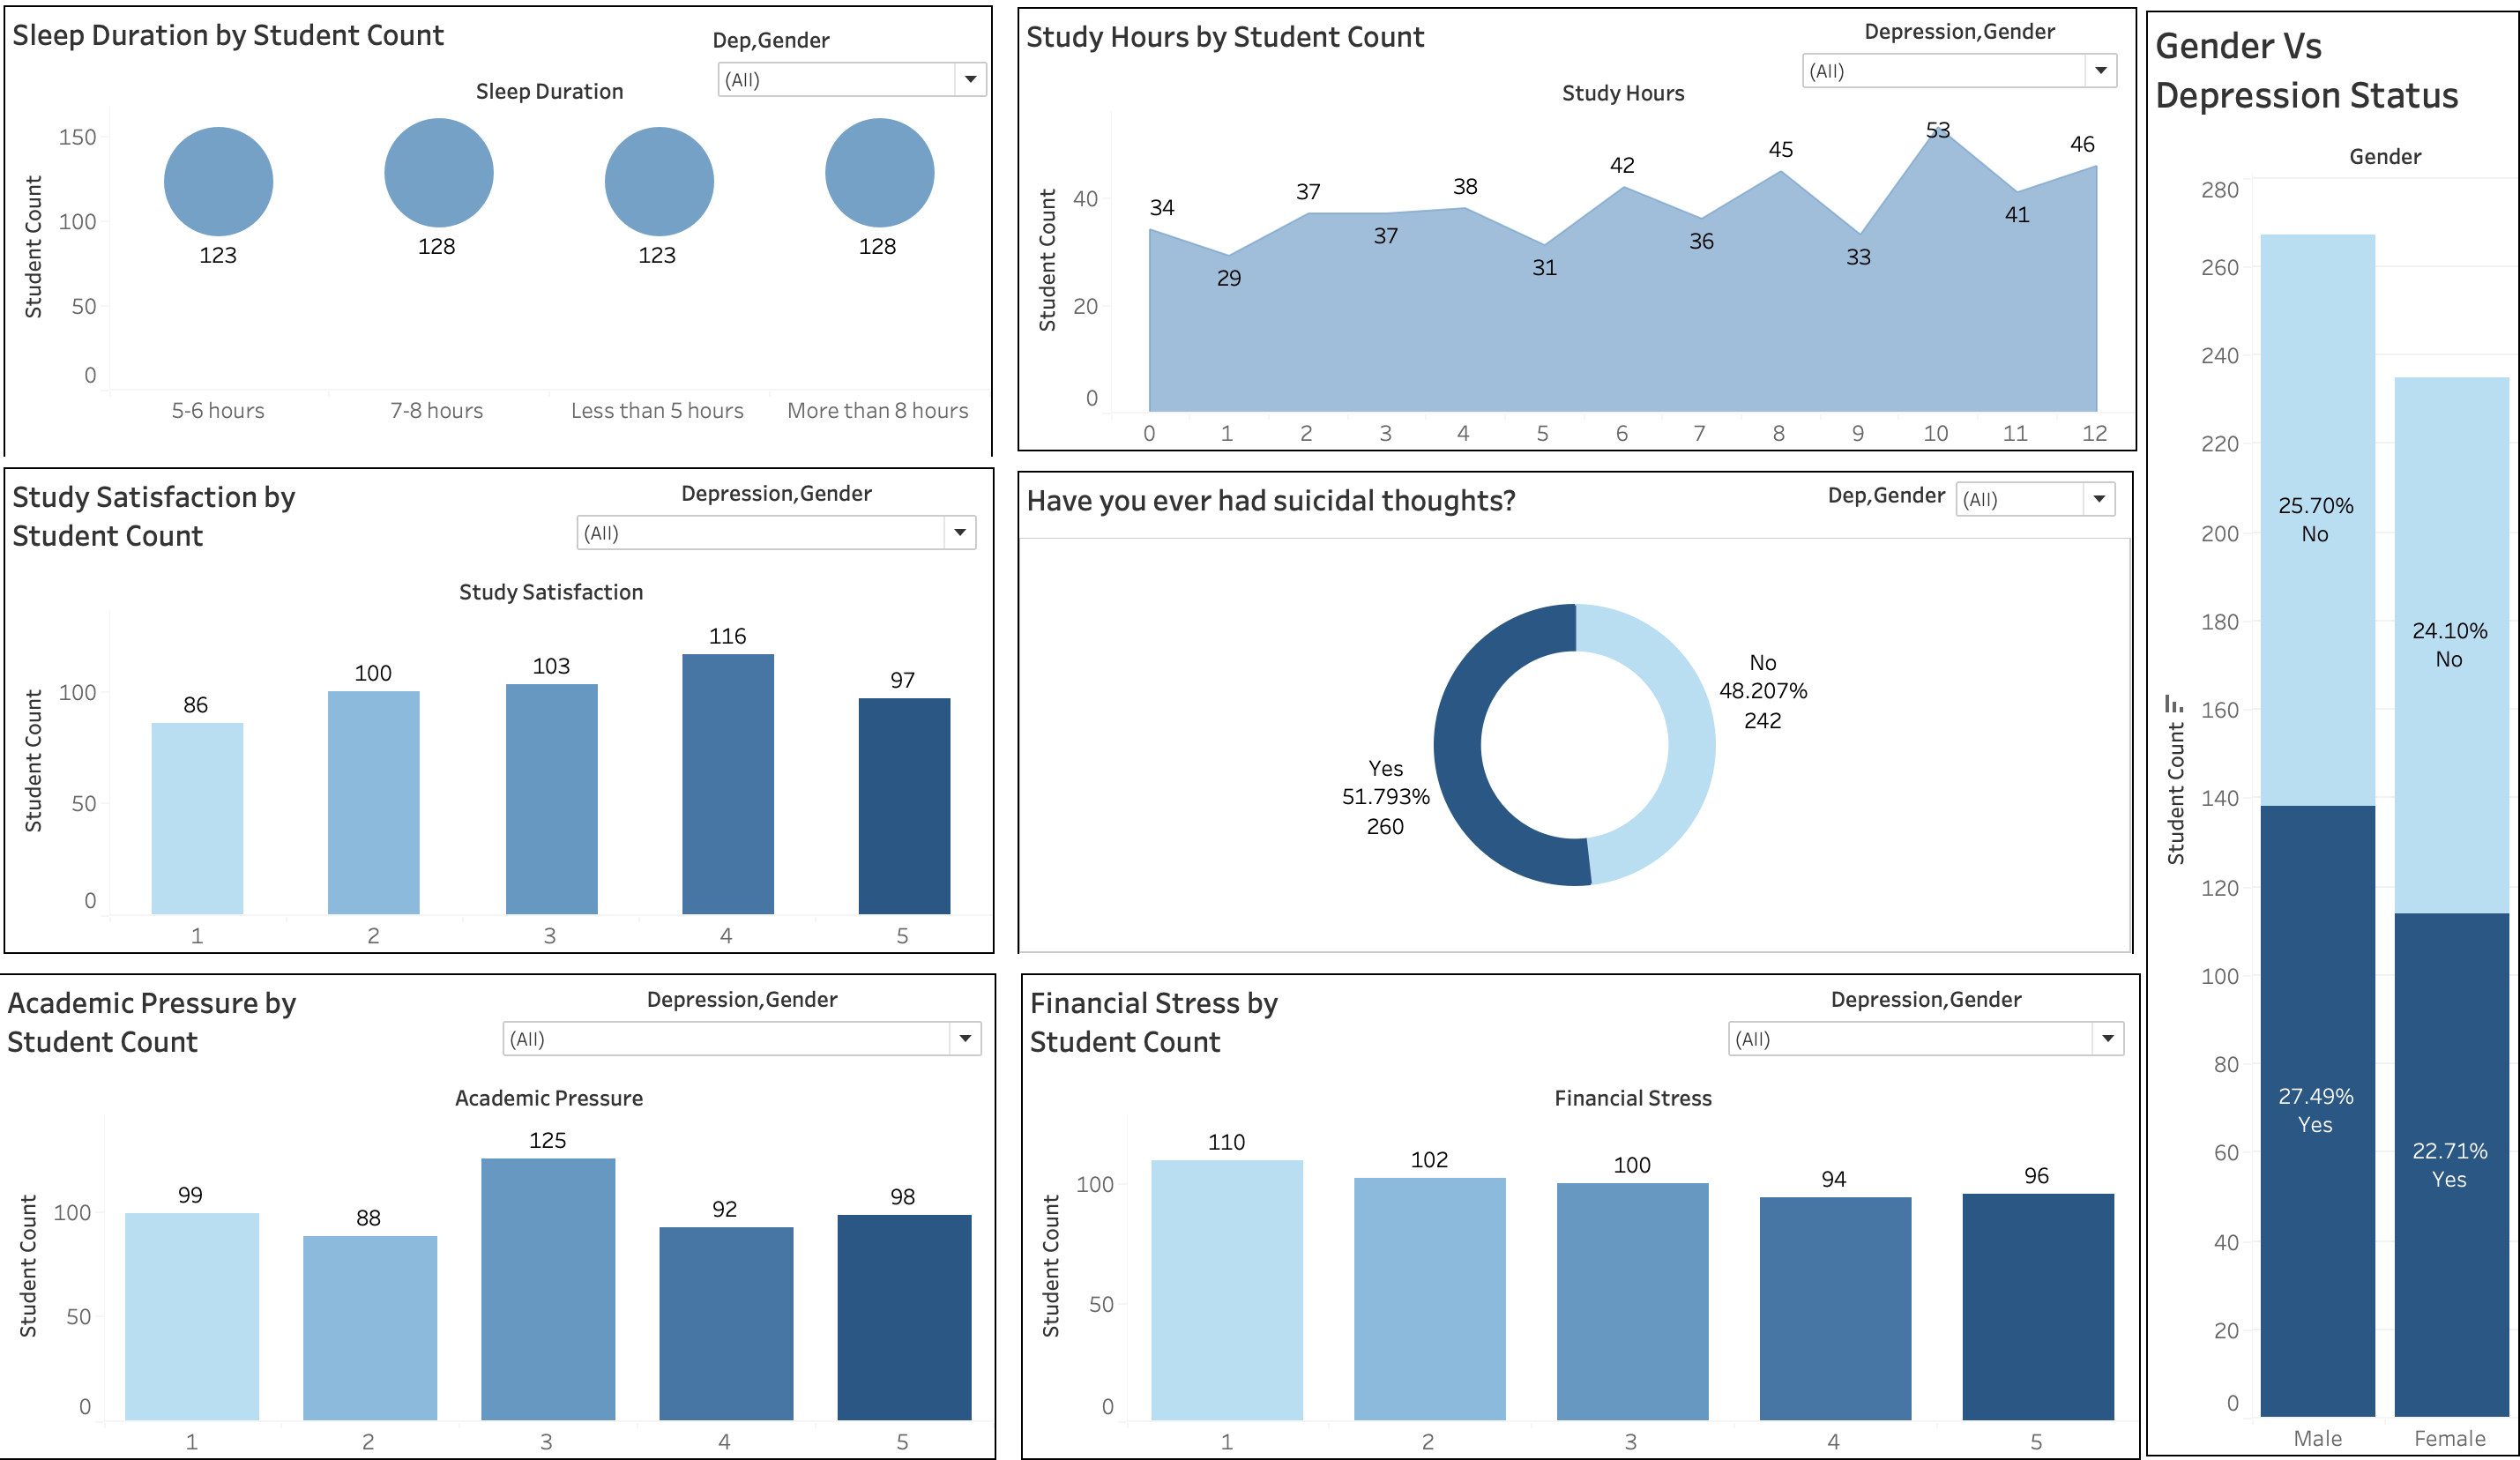

What the dashboard file says about the page in this screenshot:
{"tool":"tableau","page":{"name":"Student Depression Analysis","canvas":[1000,1000],"units":"permille","ordinal":0},"visuals":[{"type":"worksheet","title":"SD SC","mark":"Circle","rows":["depdata_E1C3E23FE9434A9DA2DF06B5553863F1"],"cols":["Sleep Duration"],"box":[3.2,4.3,389.8,309.5]},{"type":"worksheet","title":"SH SC","mark":"Area","rows":["depdata_E1C3E23FE9434A9DA2DF06B5553863F1"],"cols":["Study Hours"],"box":[402.8,5.7,441,303.7]},{"type":"worksheet","title":"Gender Vs Depression","mark":"Automatic","rows":["depdata_E1C3E23FE9434A9DA2DF06B5553863F1"],"cols":["Gender"],"box":[847,8.6,147.3,988.5]},{"type":"filter","title":"SH SC","param":"[federated.013e9y01txyzpk1eomj4f1dp9qtv].[Action (Depression,Gender)]","box":[709.5,12.2,128.6,76]},{"type":"filter","title":"SD SC","param":"[federated.013e9y01txyzpk1eomj4f1dp9qtv].[Action (Depression,Gender)]","box":[282.3,18.2,110.7,54.7]},{"type":"worksheet","title":"SS SC","mark":"Automatic","rows":["depdata_E1C3E23FE9434A9DA2DF06B5553863F1"],"cols":["Study Satisfaction"],"box":[3.2,320.9,390.6,332.4]},{"type":"worksheet","title":"Suicidal Thoughts","mark":"Pie","rows":["Calculation_5218897922944028684","Calculation_5218897922944036878"],"box":[402.8,322.4,439.4,330.9]},{"type":"filter","title":"Suicidal Thoughts","param":"[federated.013e9y01txyzpk1eomj4f1dp9qtv].[Action (Depression,Gender)]","box":[720.1,326.8,117.2,38]},{"type":"filter","title":"SS SC","param":"[federated.013e9y01txyzpk1eomj4f1dp9qtv].[Action (Depression,Gender)]","box":[227,328.3,161.9,57.8]},{"type":"worksheet","title":"AP SC","mark":"Automatic","rows":["depdata_E1C3E23FE9434A9DA2DF06B5553863F1"],"cols":["Academic Pressure"],"box":[1.6,666.2,393,332.4]},{"type":"worksheet","title":"FS SC","mark":"Automatic","rows":["depdata_E1C3E23FE9434A9DA2DF06B5553863F1"],"cols":["Financial Stress"],"box":[404.4,666.2,441,332.4]},{"type":"filter","title":"AP SC","param":"[federated.013e9y01txyzpk1eomj4f1dp9qtv].[Action (Depression,Gender)]","box":[197.7,673.2,192.8,59.3]},{"type":"filter","title":"FS SC","param":"[federated.013e9y01txyzpk1eomj4f1dp9qtv].[Action (Depression,Gender)]","box":[680.2,673.2,160.3,62.3]}]}

Visuals, with their boxes on the dashboard's canvas, which has no fixed pixel size, in thousandths of its width and height (x1, y1, x2, y2). These are canvas units, not pixel positions in the 2520x1460 screenshot, which may show the page scaled, cropped or inside an application window:
"SD SC" worksheet (Circle marks): 3:4:393:314
"SH SC" worksheet (Area marks): 403:6:844:309
"Gender Vs Depression" worksheet: 847:9:994:997
"SH SC" filter: 710:12:838:88
"SD SC" filter: 282:18:393:73
"SS SC" worksheet: 3:321:394:653
"Suicidal Thoughts" worksheet (Pie marks): 403:322:842:653
"Suicidal Thoughts" filter: 720:327:837:365
"SS SC" filter: 227:328:389:386
"AP SC" worksheet: 2:666:395:999
"FS SC" worksheet: 404:666:845:999
"AP SC" filter: 198:673:390:732
"FS SC" filter: 680:673:840:736
